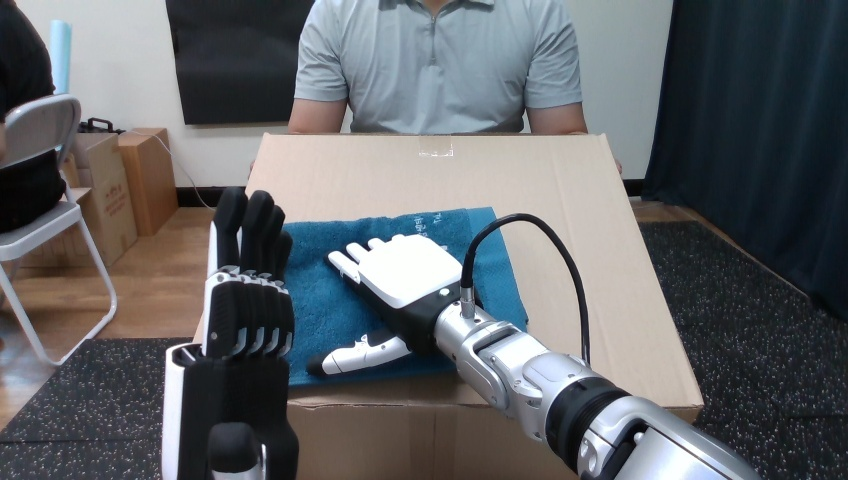left robot hand: (308, 213, 758, 479), (162, 187, 298, 479), (472, 220, 582, 358)
